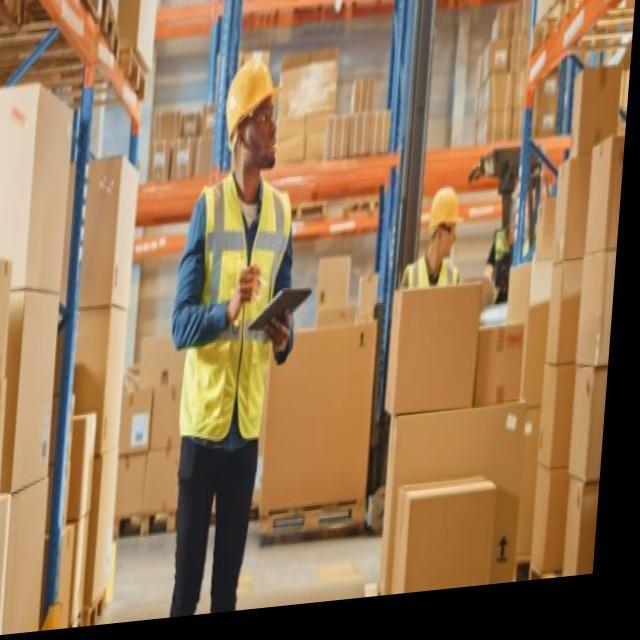hard_hat: (221, 49, 292, 174), (426, 182, 467, 257)
vest: (175, 161, 298, 455), (393, 245, 466, 384)
